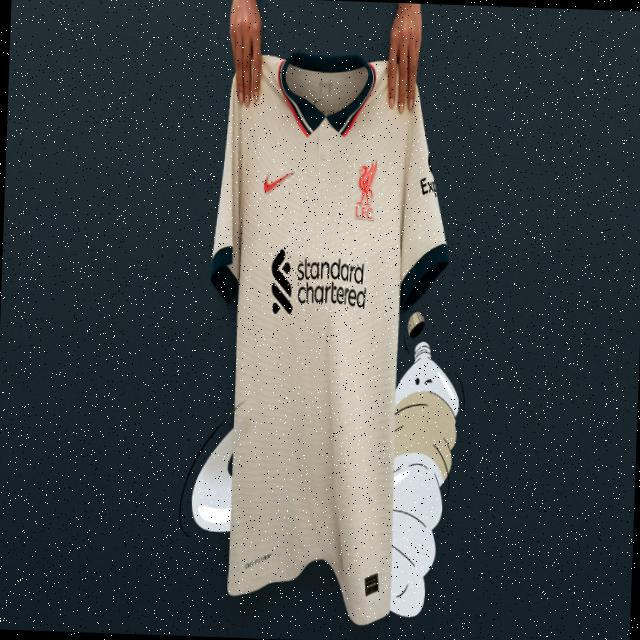Nike: (262, 167, 296, 195)
Standard Chartered: (269, 244, 368, 320)
